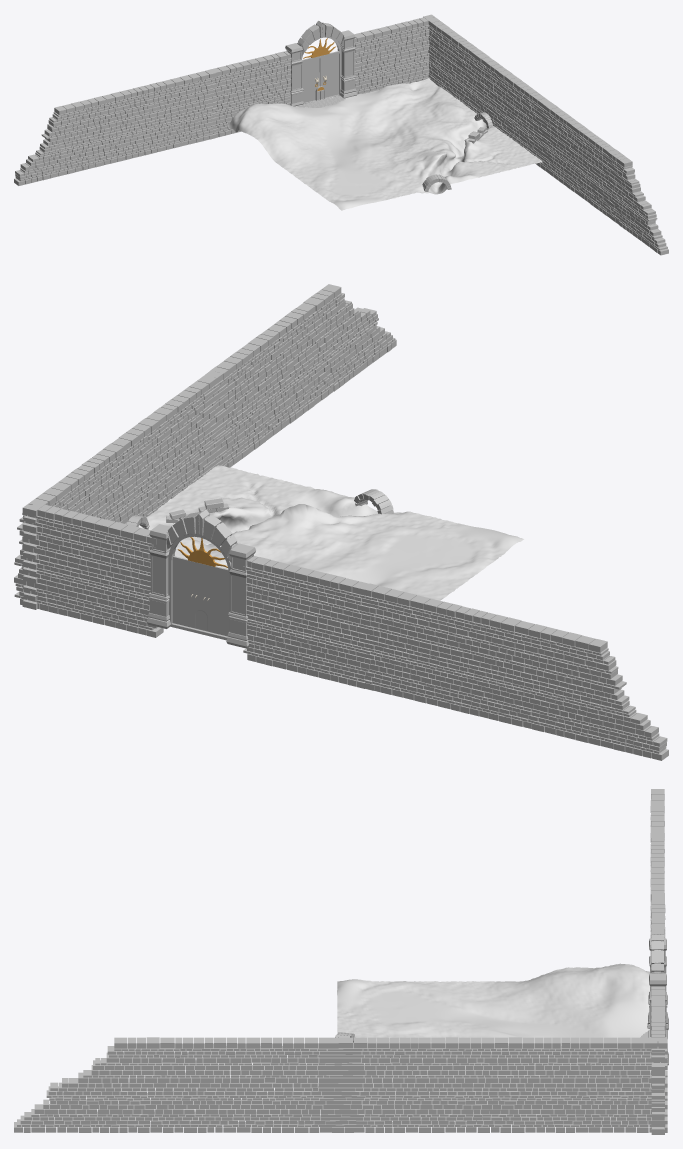
The model's file is ShadowIslesLookTerrain.fbx.
3 renders of one model, top to bottom at view 1: azimuth 30°, elevation 25°; view 2: azimuth 150°, elevation 25°; view 3: azimuth 270°, elevation 25°, orthographic. The views are drawn at different scales.
Visible parts, largest first — view 1: Ground, Wall.017, Wall.018, Wall.016, Wall.015, Wall.012, Circle, Cube.001, Cube.013; view 2: Wall.017, Ground, Wall.018, Wall.016, Wall.015, Wall.012, Circle, Cube.001, Cube.013; view 3: Wall.016, Wall.018, Ground, Wall.015, Wall.017, Wall.012.
Boxes of the visible parts, x1,y1,x2,y2 form: Ground: (227, 78, 542, 210); Wall.017: (14, 70, 215, 185); Wall.018: (532, 98, 668, 255); Wall.016: (423, 14, 557, 169); Wall.015: (351, 16, 433, 94); Wall.012: (208, 51, 293, 137); Circle: (301, 37, 341, 103); Cube.001: (339, 30, 357, 98); Cube.013: (285, 43, 304, 107); Wall.017: (362, 583, 668, 760); Ground: (138, 465, 523, 600); Wall.018: (199, 284, 396, 476); Wall.016: (22, 367, 227, 609); Wall.015: (14, 502, 163, 637); Wall.012: (243, 556, 374, 690); Circle: (168, 534, 231, 637); Cube.001: (146, 524, 175, 628); Cube.013: (226, 543, 255, 648); Wall.016: (318, 1037, 667, 1132); Wall.018: (14, 1037, 366, 1132); Ground: (337, 963, 650, 1115); Wall.015: (651, 986, 665, 1134); Wall.017: (650, 789, 664, 937); Wall.012: (651, 893, 665, 938).
Size of the model in its own units: 42129 by 9117 by 40791.
